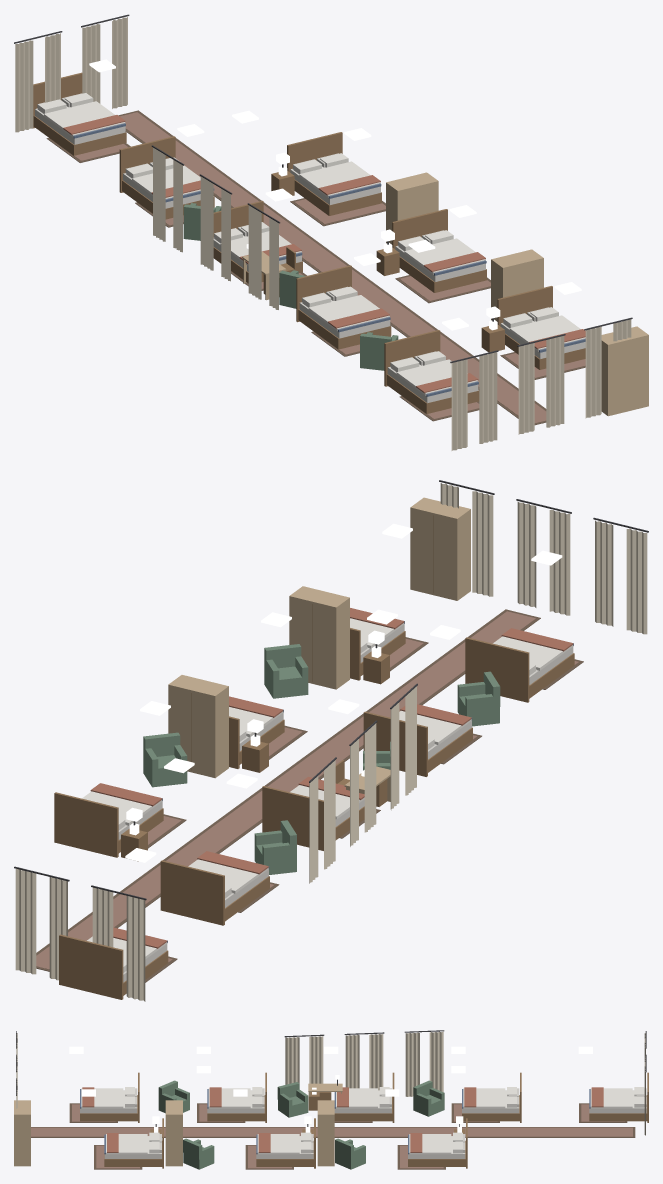
The model's file is fine-s2.glb.
The picture shows the model from 3 angles, top to bottom: view 1: azimuth 30°, elevation 25°; view 2: azimuth 150°, elevation 25°; view 3: azimuth 270°, elevation 25°; orthographic projection. The views are drawn at different scales.
Parts seen in each view (by area): view 1: soft-s2, dresser.005, bed-frame.008, bed-frame.009, bed-frame.014, bed-frame.015, bed-frame.011, bed-frame.010, bed-frame.012, dresser.004, dresser.003, bed-frame.013 (+5 smaller); view 2: soft-s2, dresser.005, dresser.004, dresser.003, bed-frame.012, bed-frame.008, bed-frame.011, bed-frame.015, bed-frame.013, bed-frame.014, lounge-chair.006, lounge-chair.005 (+6 smaller); view 3: soft-s2, dresser.003, dresser.004, dresser.005, bed-frame.015, bed-frame.014, bed-frame.013, bed-frame.012, bed-frame.011, bed-frame.008, bed-frame.009, bed-frame.010 (+6 smaller).
Part boxes in pixels (box(x1,y1,x2,y2)): soft-s2: box(14, 14, 632, 450); dresser.005: box(601, 326, 648, 416); bed-frame.008: box(287, 132, 381, 215); bed-frame.009: box(392, 209, 486, 292); bed-frame.014: box(296, 265, 391, 349); bed-frame.015: box(384, 330, 479, 413); bed-frame.011: box(33, 72, 126, 155); bed-frame.010: box(497, 286, 585, 369); bed-frame.012: box(119, 136, 214, 219); dresser.004: box(491, 249, 543, 321); dresser.003: box(386, 172, 438, 244); bed-frame.013: box(213, 200, 302, 283); soft-s2: box(14, 480, 648, 1001); dresser.005: box(410, 497, 470, 600); dresser.004: box(289, 586, 349, 689); dresser.003: box(168, 675, 228, 778); bed-frame.012: box(160, 860, 269, 925); bed-frame.008: box(54, 792, 163, 857); bed-frame.011: box(59, 934, 168, 999); bed-frame.015: box(465, 637, 574, 702); bed-frame.013: box(262, 786, 364, 850); bed-frame.014: box(363, 711, 472, 776); lounge-chair.006: box(264, 644, 308, 698); lounge-chair.005: box(143, 732, 187, 787); soft-s2: box(16, 1030, 646, 1169); dresser.003: box(317, 1100, 334, 1166); dresser.004: box(165, 1100, 182, 1166); dresser.005: box(14, 1100, 30, 1166); bed-frame.015: box(80, 1072, 139, 1122); bed-frame.014: box(207, 1072, 266, 1122); bed-frame.013: box(334, 1072, 394, 1122); bed-frame.012: box(462, 1072, 521, 1122); bed-frame.011: box(589, 1072, 648, 1122); bed-frame.008: box(408, 1118, 467, 1168); bed-frame.009: box(256, 1118, 315, 1168); bed-frame.010: box(104, 1118, 163, 1168).
Size of the model in its own units: 6.14 by 2.56 by 22.34.
